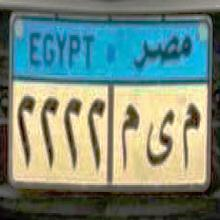2: (15, 90, 38, 170), (63, 94, 84, 171), (85, 96, 106, 172), (40, 94, 60, 170)
meem: (120, 93, 140, 178), (181, 98, 201, 173)
yaa: (146, 100, 176, 171)
